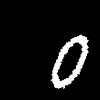chain: (51, 35, 87, 88)
